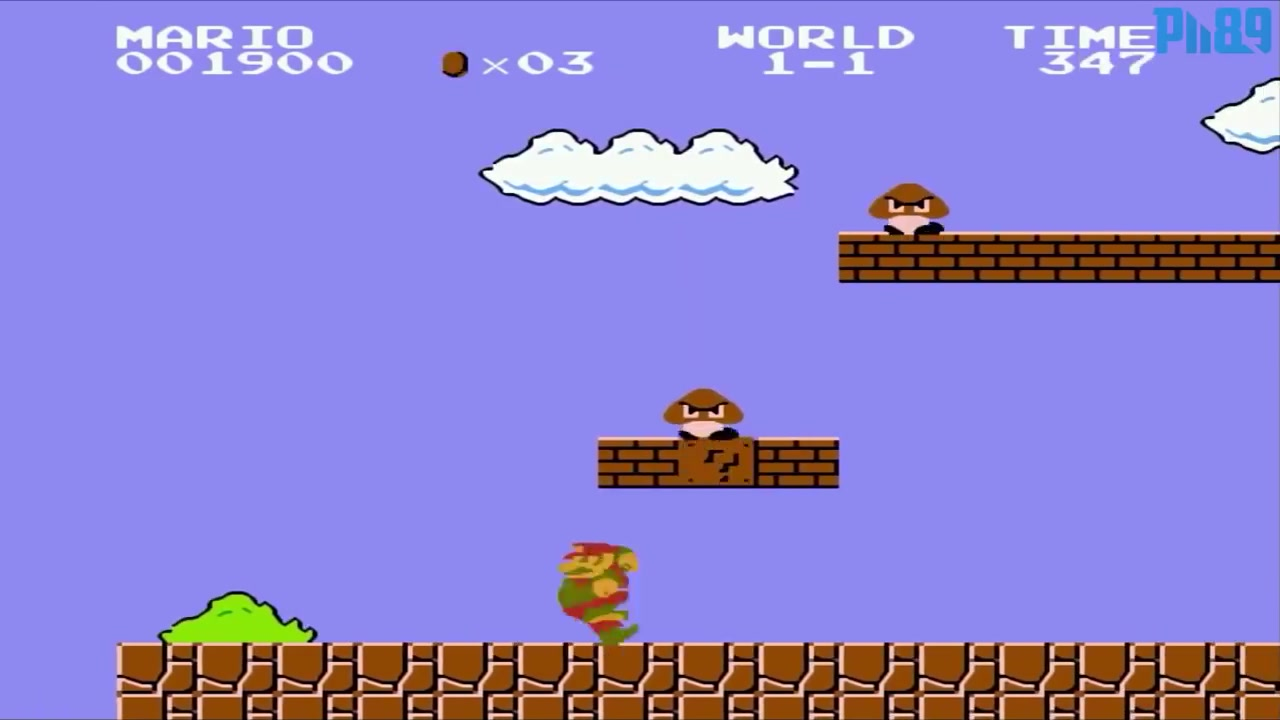mario: (544, 535, 645, 644)
